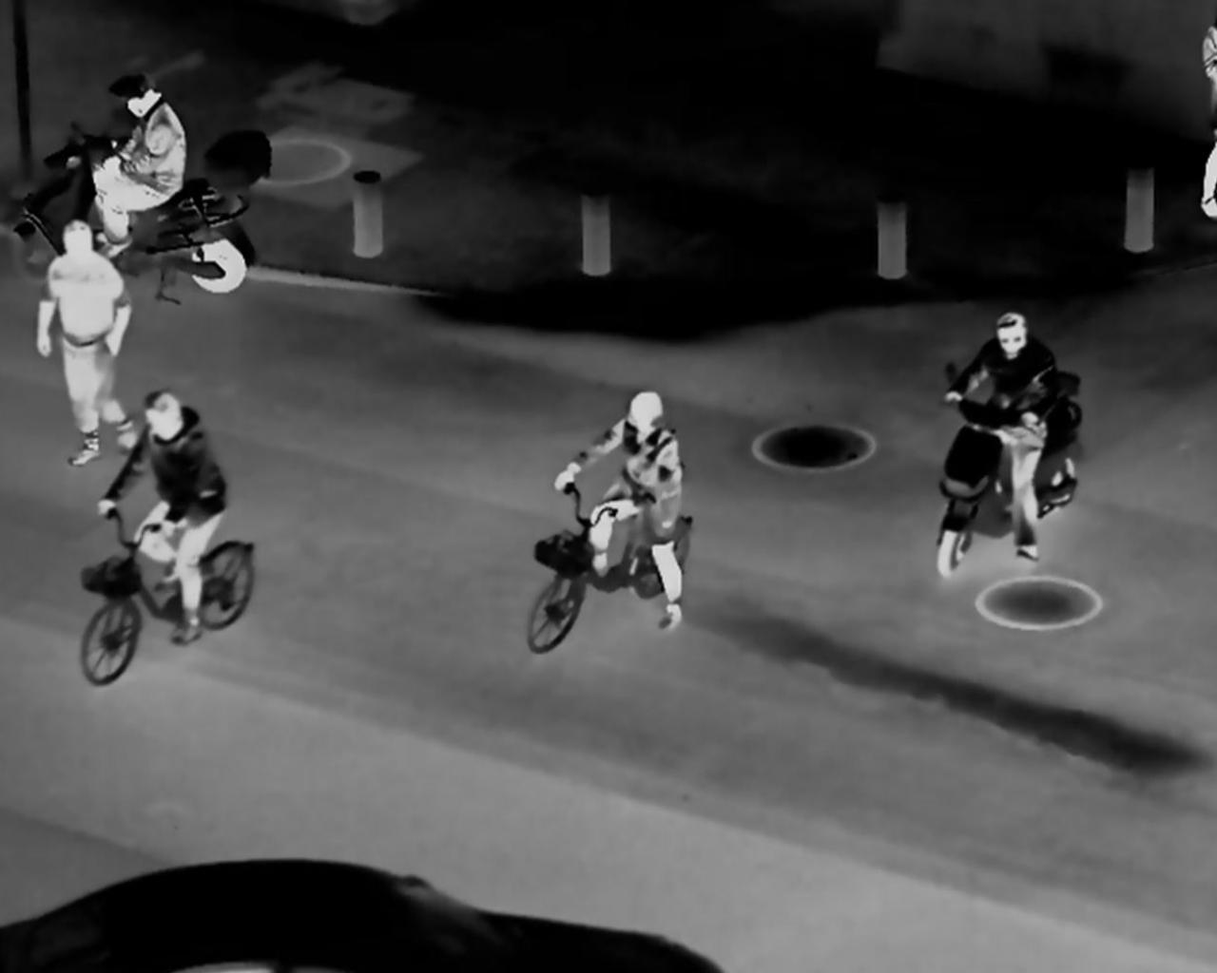person: (937, 289, 1072, 563), (565, 370, 700, 636), (100, 391, 234, 644), (29, 221, 139, 466), (72, 67, 194, 260)
